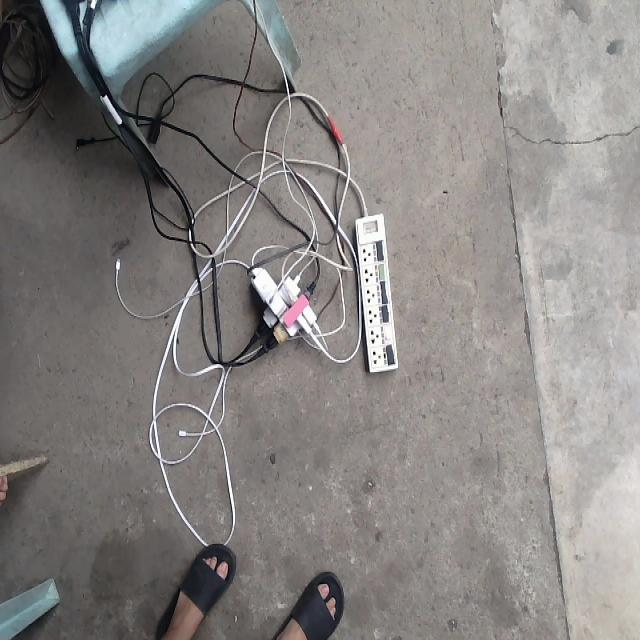-: (246, 260, 319, 356)
